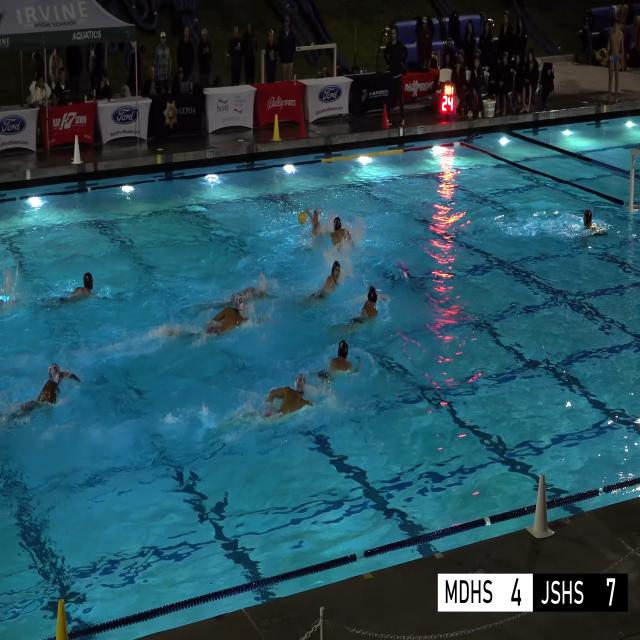ball: (298, 212, 306, 224), (486, 98, 492, 102)
